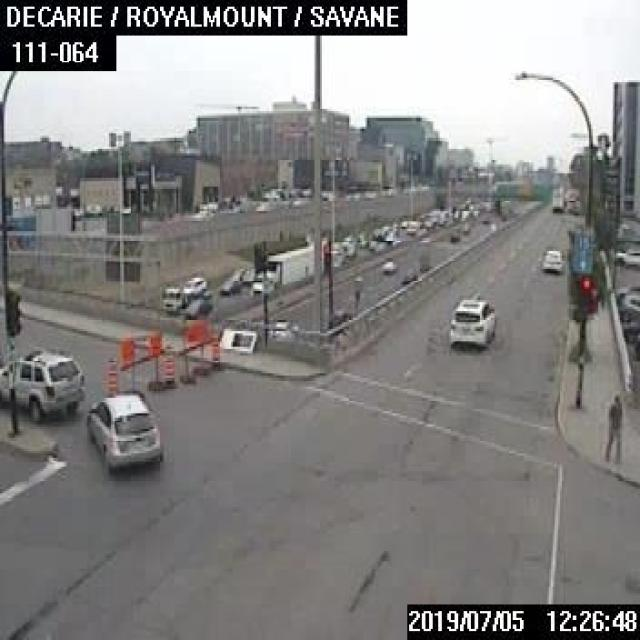construction: (178, 321, 206, 382), (120, 334, 144, 395), (146, 331, 162, 387), (162, 345, 174, 384), (105, 356, 116, 392), (210, 335, 218, 364)
pedestrian: (604, 393, 626, 462)
vehicle: (87, 392, 164, 471), (0, 350, 80, 419), (249, 241, 313, 295), (447, 294, 495, 350), (160, 274, 207, 312), (619, 292, 638, 322), (541, 247, 564, 271), (614, 246, 638, 265), (616, 282, 638, 302), (181, 274, 205, 292), (550, 183, 564, 210), (218, 275, 240, 292), (381, 258, 394, 272), (449, 232, 458, 240)
